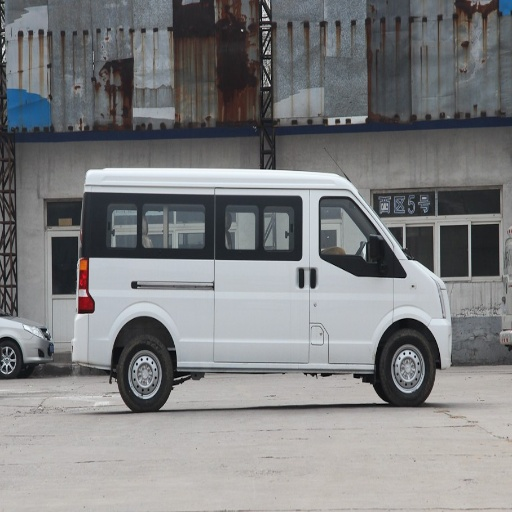trunk: (72, 262, 293, 368), (328, 266, 391, 361)
